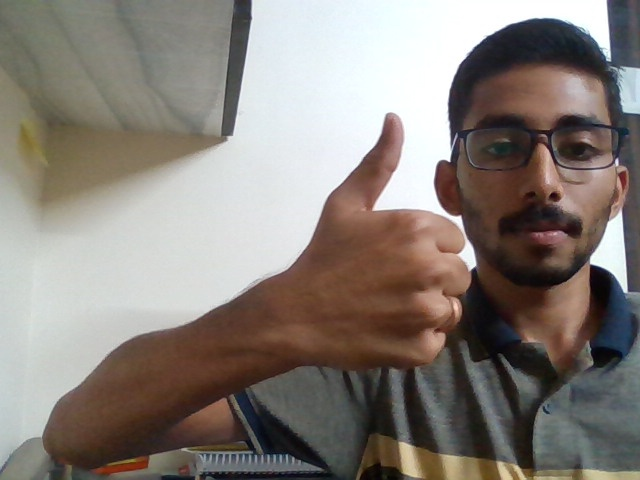Yes: (274, 95, 474, 401)
